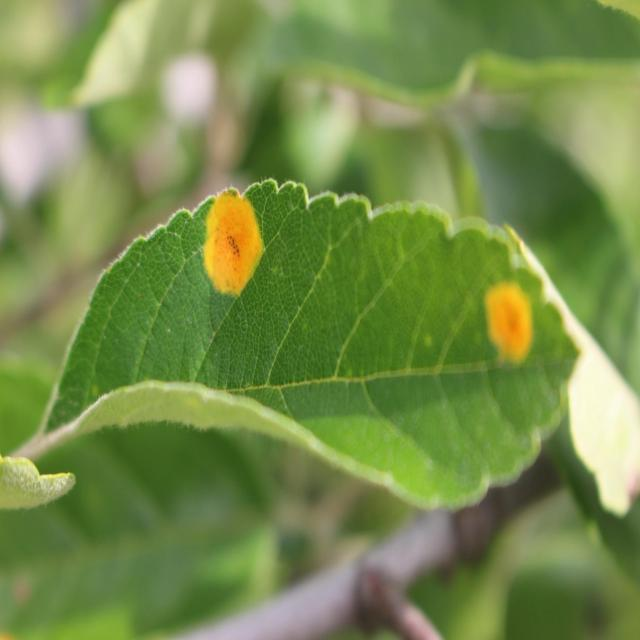Rust: (188, 174, 274, 305), (469, 261, 549, 378)
